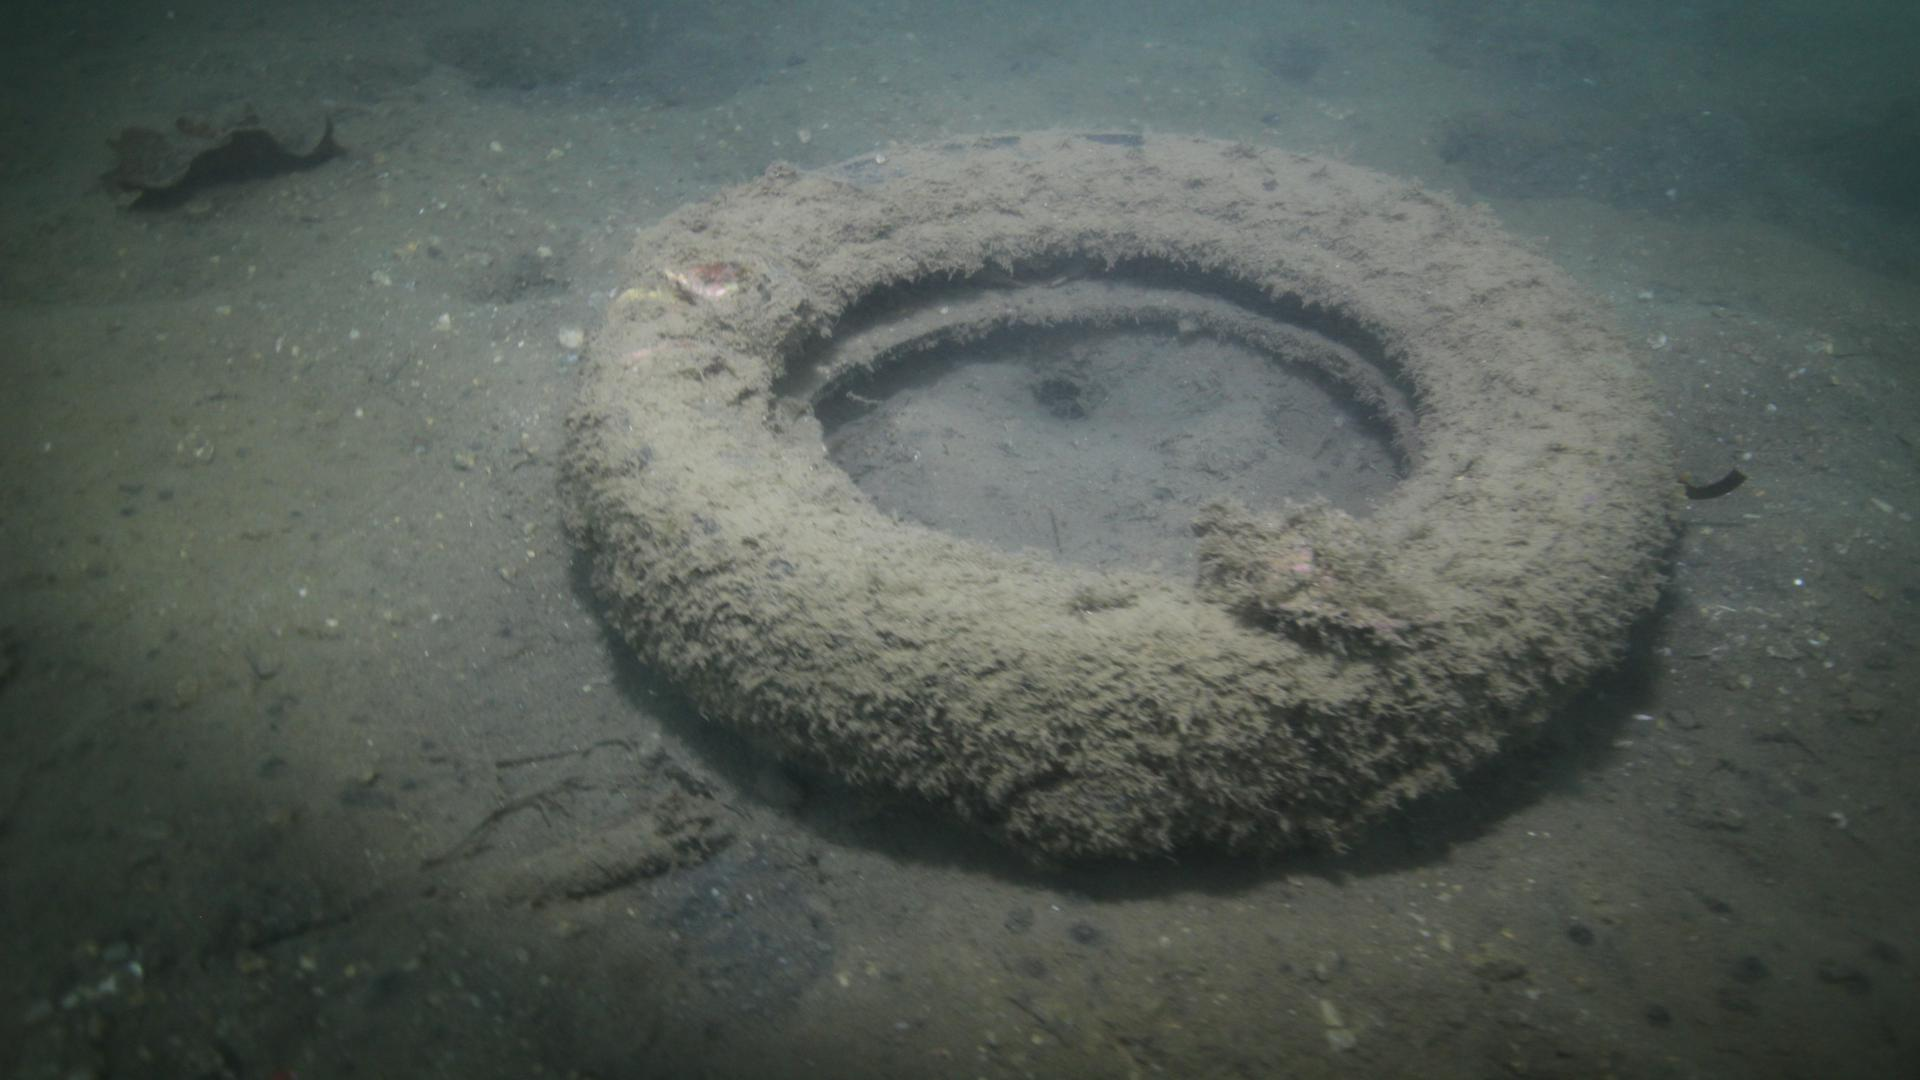tire: (558, 127, 1687, 864)
